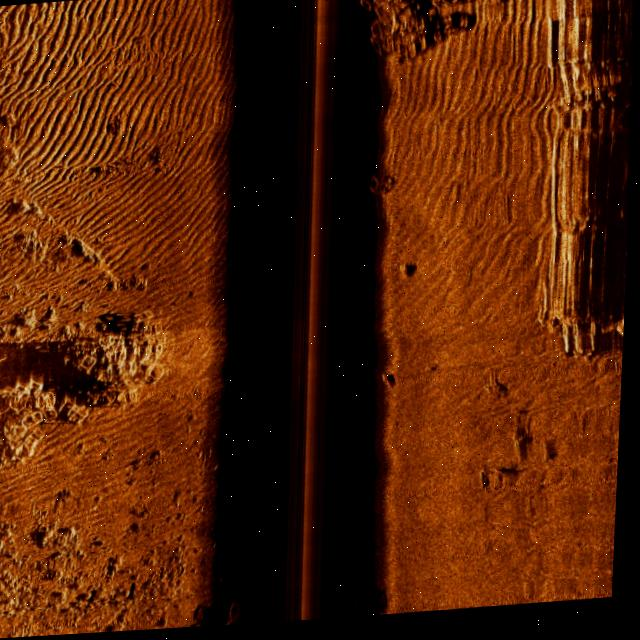artificial reef: (9, 287, 169, 451), (359, 0, 454, 69), (354, 162, 399, 214)
